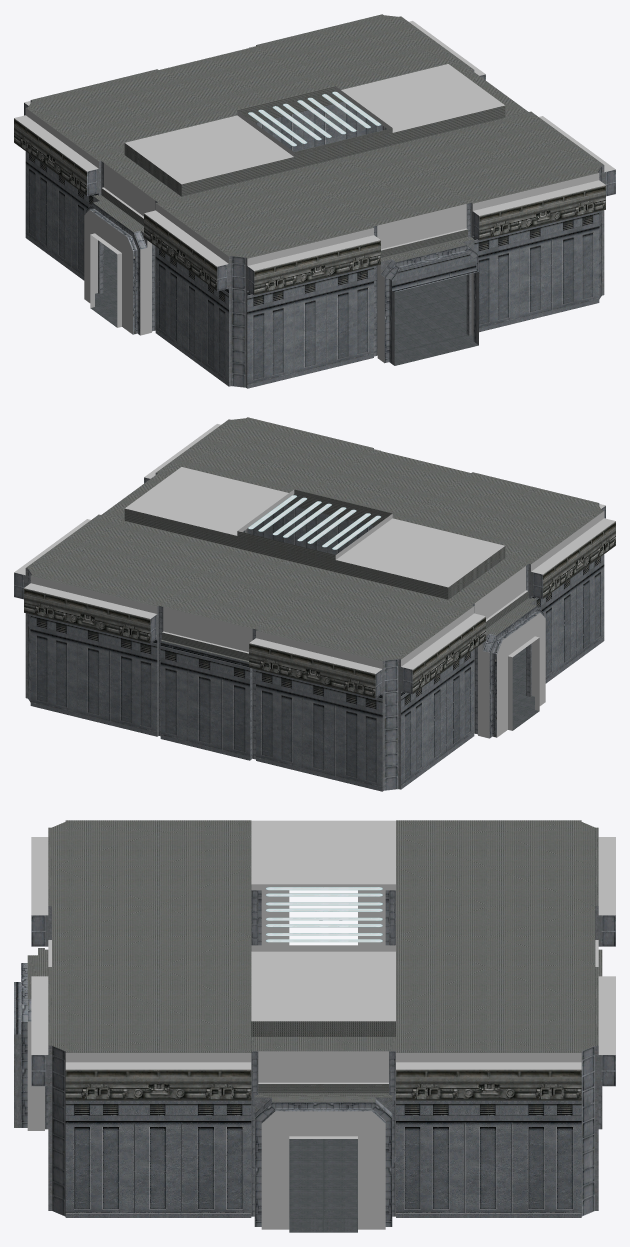
The model's file is poi_all_impl_bunker_warren_s01_r70_smallroom70_mesh_r70.fbx.
3 renders of one model, top to bottom at view 1: azimuth 30°, elevation 25°; view 2: azimuth 150°, elevation 25°; view 3: azimuth 270°, elevation 25°, orthographic. The views are drawn at different scales.
Parts seen in each view (by area): view 1: mesh_node; view 2: mesh_node; view 3: mesh_node.
Boxes of the visible parts, x1,y1,x2,y2 form: mesh_node: (14,14,615,388); mesh_node: (14,417,615,791); mesh_node: (14,820,615,1232).
Bounding box in the file's own units: 18 × 6 × 17.5.
